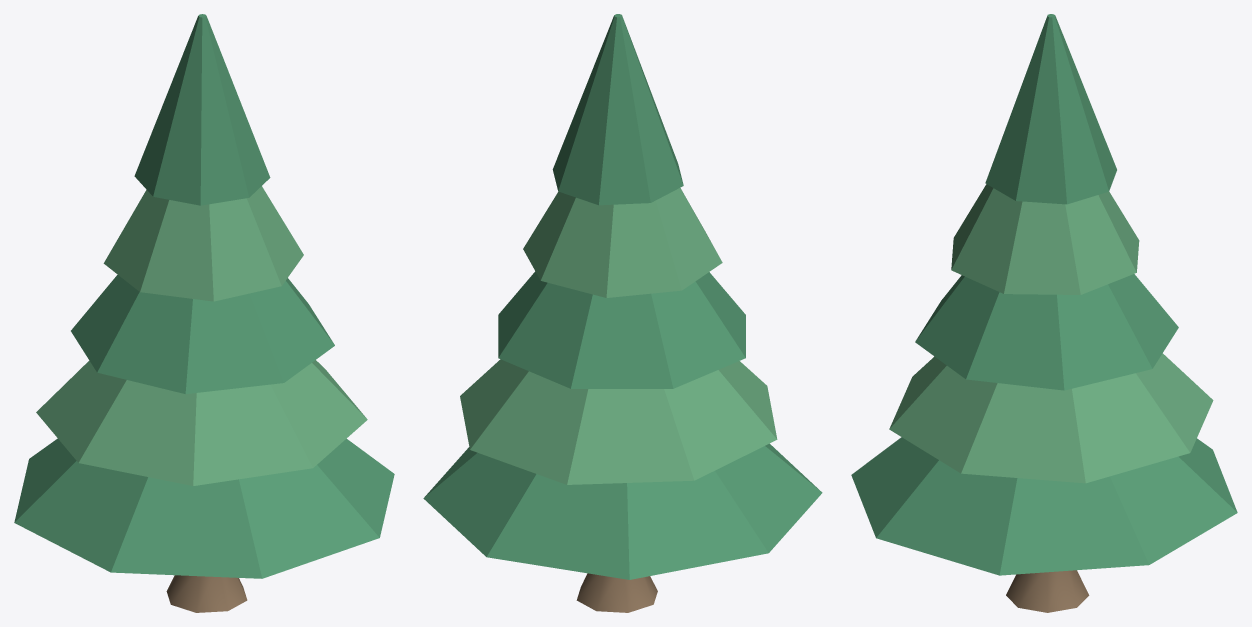
Rendered from tree_conifer_0.fbx.
3 renders of one model, left to right at view 1: azimuth 30°, elevation 25°; view 2: azimuth 150°, elevation 25°; view 3: azimuth 270°, elevation 25°, orthographic.
Parts seen in each view (by area): view 1: tree_conifer_0; view 2: tree_conifer_0; view 3: tree_conifer_0.
Part boxes in pixels (bbox=[...]): tree_conifer_0: bbox=[14, 14, 394, 612]; tree_conifer_0: bbox=[423, 14, 822, 612]; tree_conifer_0: bbox=[851, 14, 1237, 612].
Bounding box in the file's own units: 3.7 × 6.11 × 3.7.
